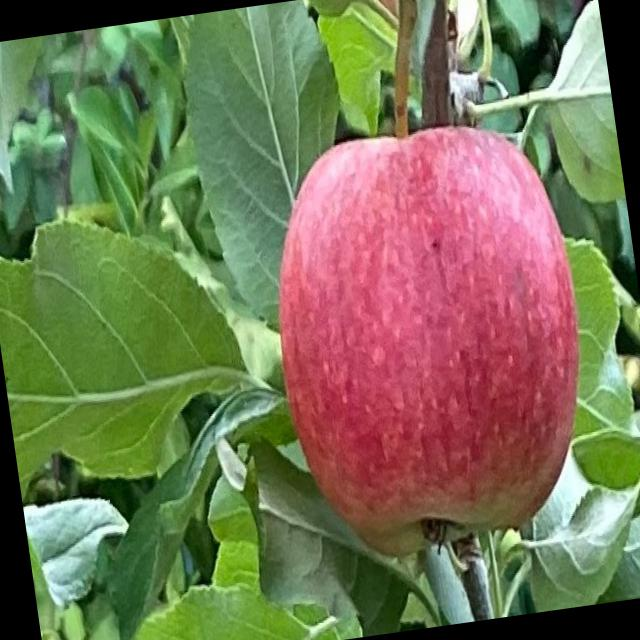Apples: (256, 114, 606, 566)
